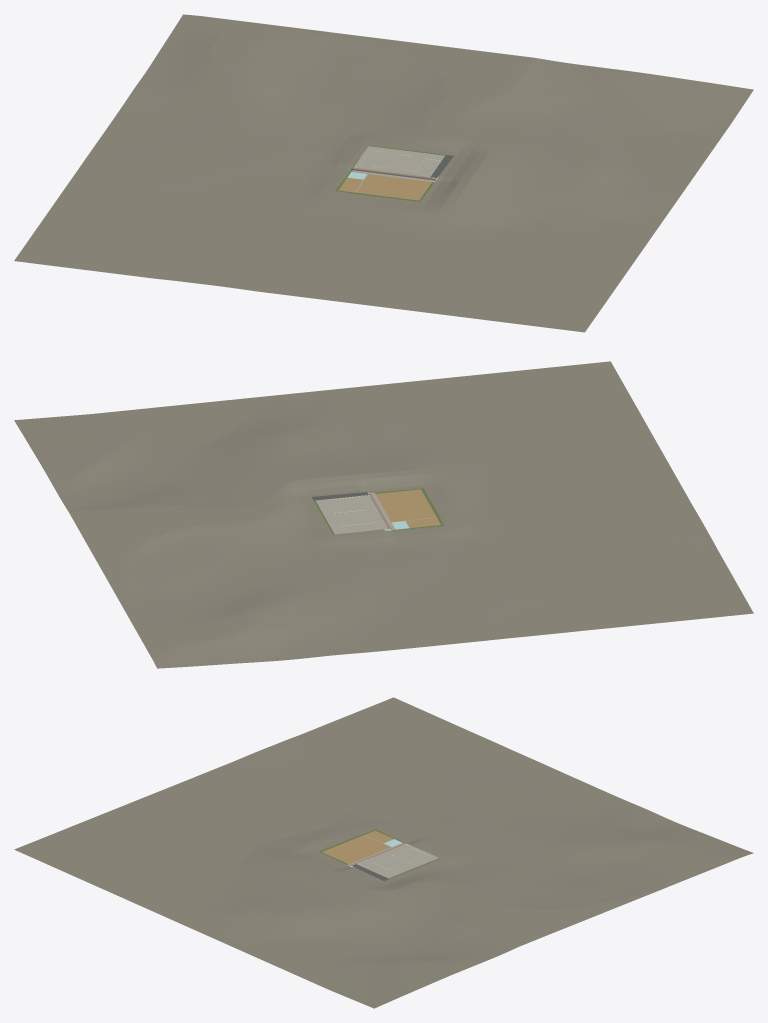
The picture shows the model from 3 angles, top to bottom: view 1: azimuth 30°, elevation 25°; view 2: azimuth 150°, elevation 25°; view 3: azimuth 270°, elevation 25°; orthographic projection. The views are drawn at different scales.
Parts seen in each view (by area): view 1: ground_context-estimated, surface_school-field, surface_back-yard; view 2: ground_context-estimated, surface_school-field, surface_back-yard; view 3: ground_context-estimated, surface_school-field, surface_back-yard.
Part boxes in pixels (x1,y1,x2,y2): ground_context-estimated: (14,14,753,332); surface_school-field: (356,174,431,200); surface_back-yard: (356,146,444,173); ground_context-estimated: (14,361,753,668); surface_school-field: (375,489,436,521); surface_back-yard: (315,496,377,534); ground_context-estimated: (14,697,753,1008); surface_school-field: (322,835,390,864); surface_back-yard: (362,846,438,878).
Size of the model in its own units: 1018 by 8 by 1018.
7 materials, 6 textured.
